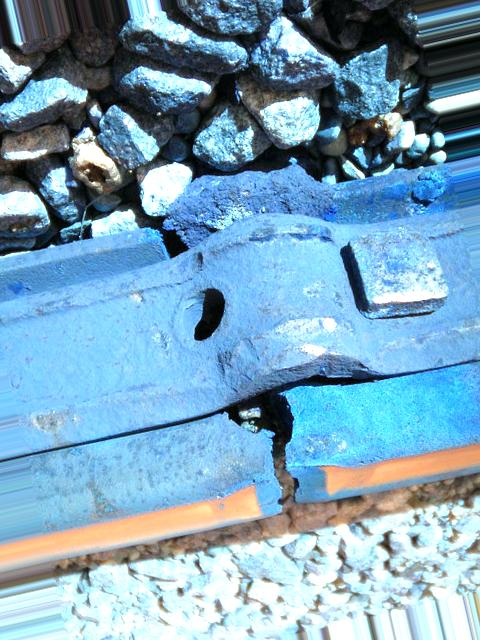tracks_fault: (120, 175, 413, 522)
